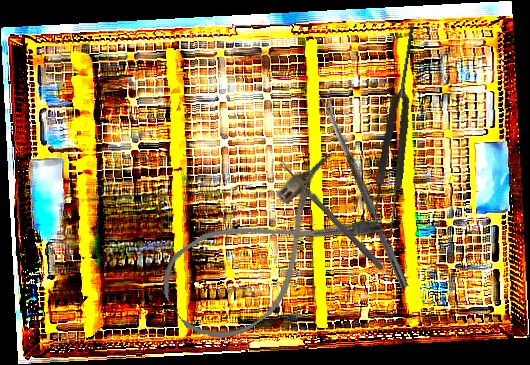Cannula: (148, 150, 387, 358)
Surgical Spoon: (320, 94, 410, 289), (277, 160, 386, 271)
Tissue Forceps: (367, 23, 427, 238)
